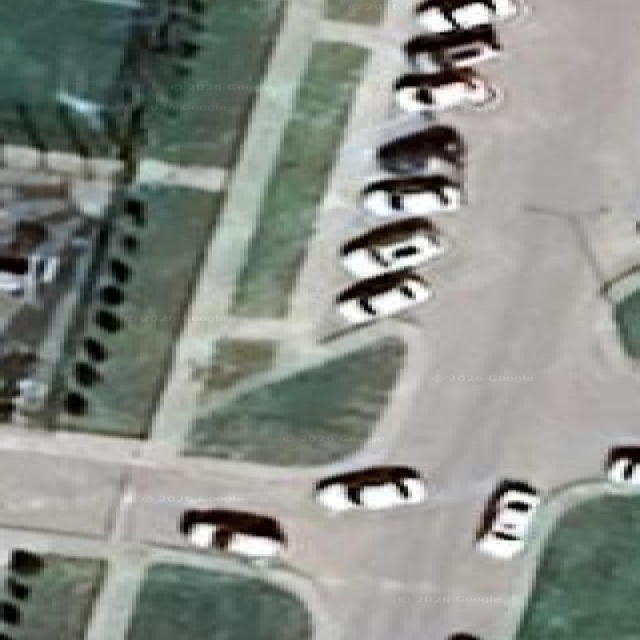car: (340, 218, 446, 277), (180, 509, 286, 558), (336, 270, 432, 324), (314, 466, 426, 511), (476, 481, 539, 558), (0, 220, 59, 298), (404, 25, 501, 72), (394, 68, 497, 112), (377, 124, 466, 174), (361, 175, 462, 216), (415, 0, 524, 32), (606, 447, 639, 484), (447, 632, 478, 639)
